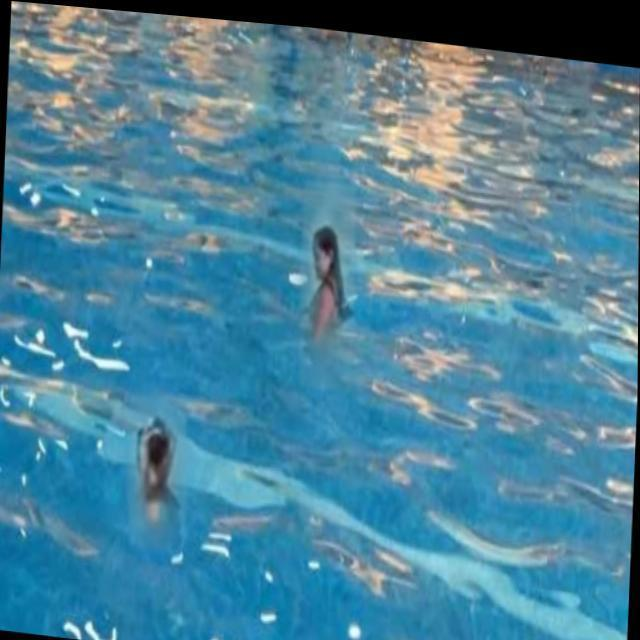swimming: (289, 207, 376, 360), (114, 398, 197, 552)
